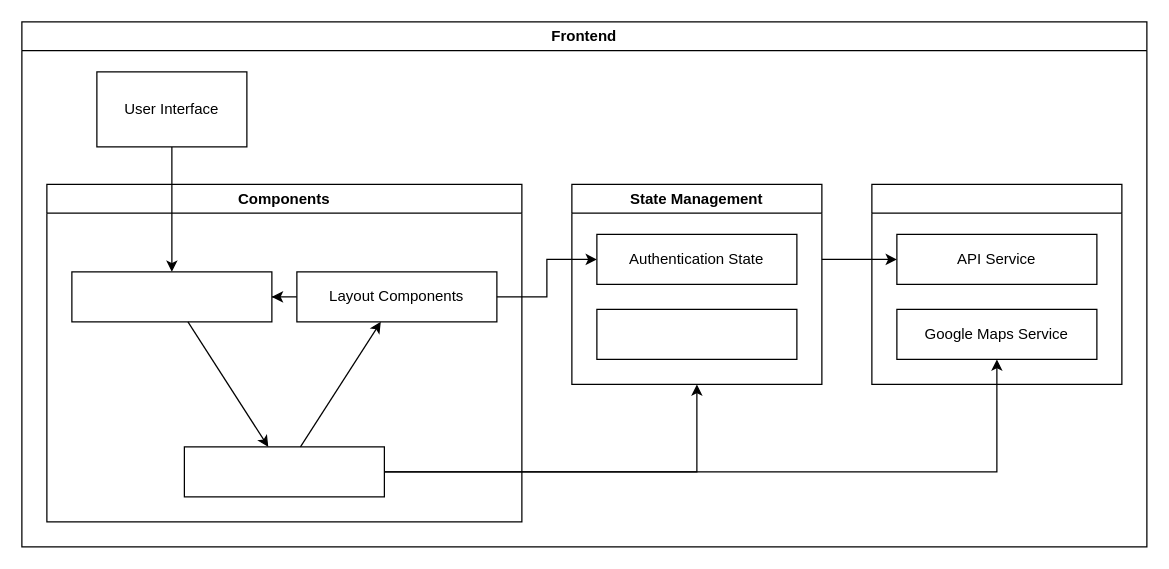
This 1169x569 diagram has some shape labels left out. The shapes that lost their labels are listed below. From the top down, each one's box as (x1, y1, x2, y2) in pixels, then its label:
(71, 271, 272, 322): Common Components
(871, 183, 1122, 384): Services
(596, 308, 797, 359): Application State
(183, 446, 384, 497): Pages
